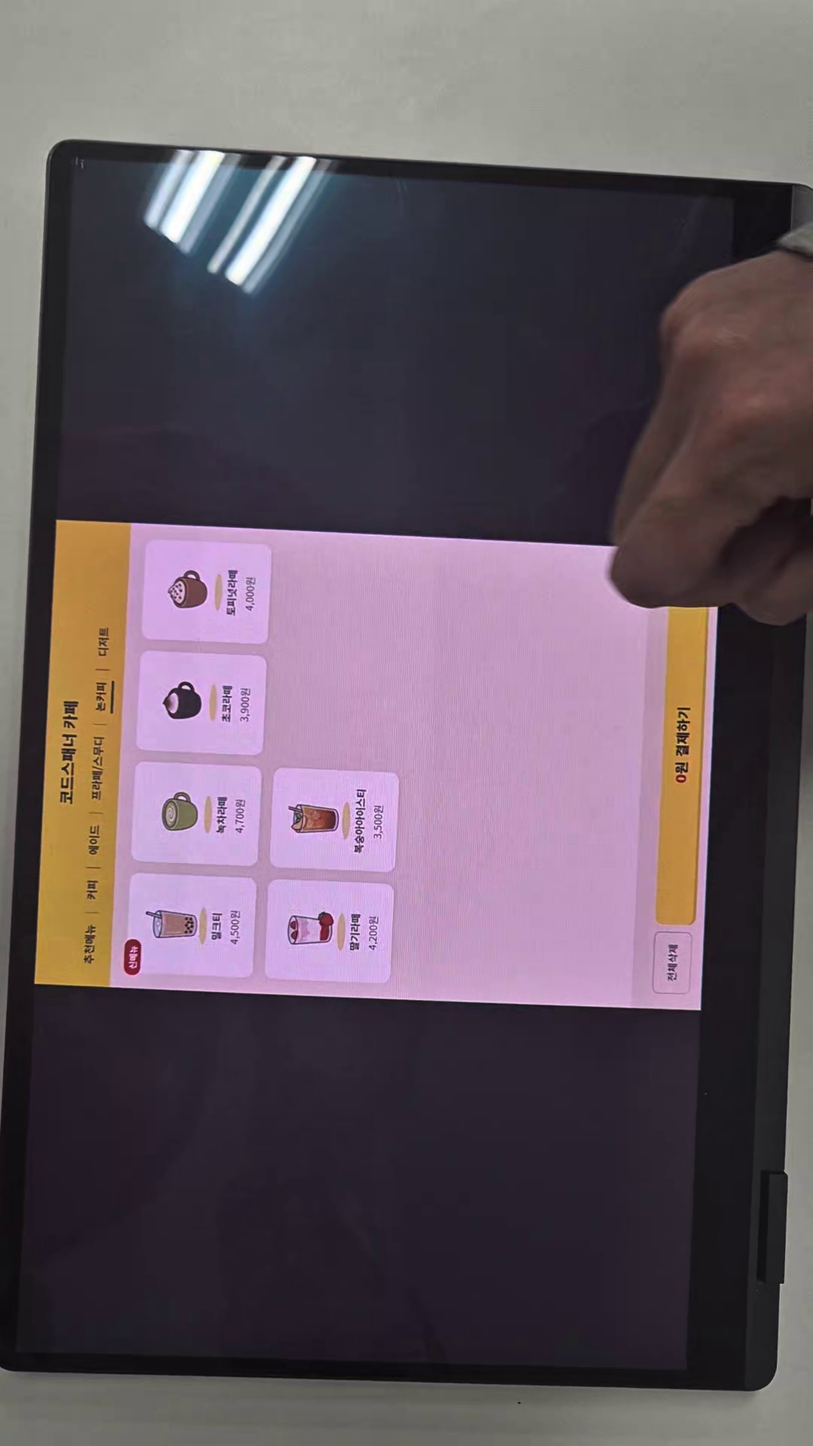action_button: (653, 931, 692, 994)
category_tab: (89, 735, 106, 803), (83, 923, 98, 966), (94, 680, 109, 712), (87, 824, 101, 856), (97, 626, 110, 658), (85, 878, 99, 901)
menu_back: (134, 649, 268, 756), (130, 760, 263, 867), (139, 539, 273, 645), (125, 871, 258, 977), (269, 768, 400, 873), (264, 878, 395, 982)
menu_name: (352, 787, 368, 855), (225, 569, 240, 617), (220, 684, 234, 724), (349, 912, 362, 953), (215, 795, 228, 835), (210, 911, 223, 941)
menu_price: (366, 915, 380, 952), (228, 909, 242, 946), (238, 686, 252, 723), (233, 798, 247, 834), (243, 576, 257, 612), (372, 804, 385, 841)
